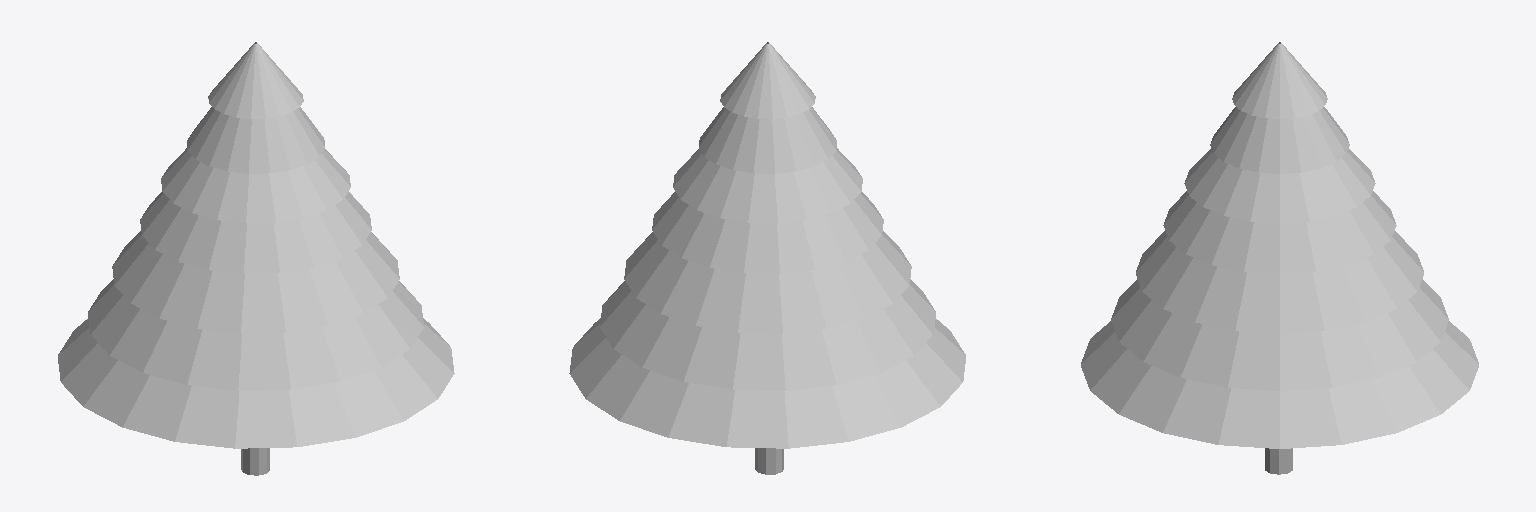
File: Cone_tree.obj
The picture shows the model from 3 angles: view 1: azimuth 30°, elevation 25°; view 2: azimuth 150°, elevation 25°; view 3: azimuth 270°, elevation 25°; orthographic projection.
Visible parts, largest first — view 1: Cone_tree group19; view 2: Cone_tree group19; view 3: Cone_tree group19.
Boxes of the visible parts, x1=… form: Cone_tree group19: x1=58, y1=42, x2=454, y2=475; Cone_tree group19: x1=569, y1=42, x2=965, y2=474; Cone_tree group19: x1=1081, y1=42, x2=1478, y2=474.
Bounding box in the file's own units: 4.6 × 5.42 × 4.6.